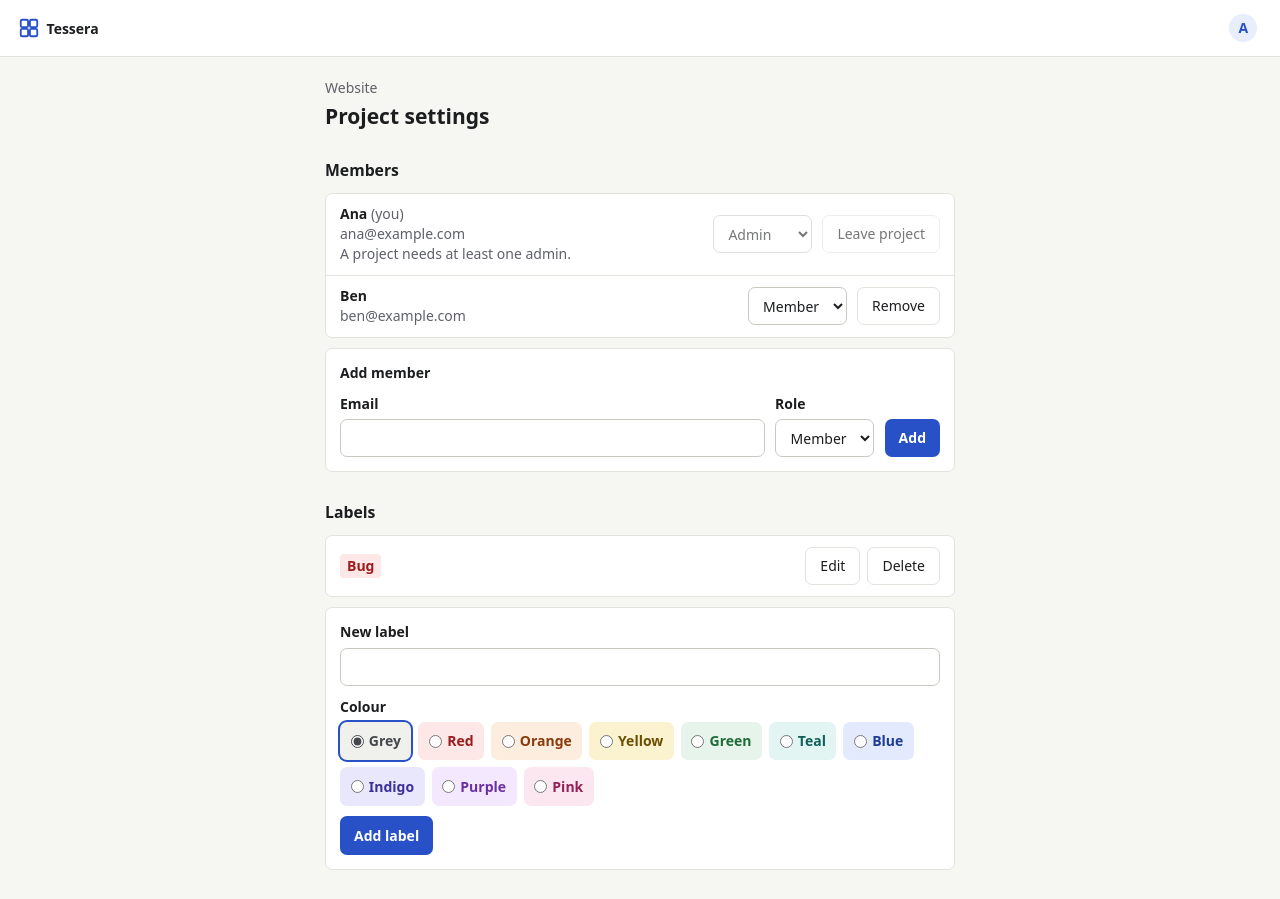
Test: Project settings: members › asks before an admin removes someone
The width and height of the screenshot is (1280, 899).
Click the button with aria-label "Remove Ben": [899, 306] box top-left (857, 287), bottom-right (940, 325)
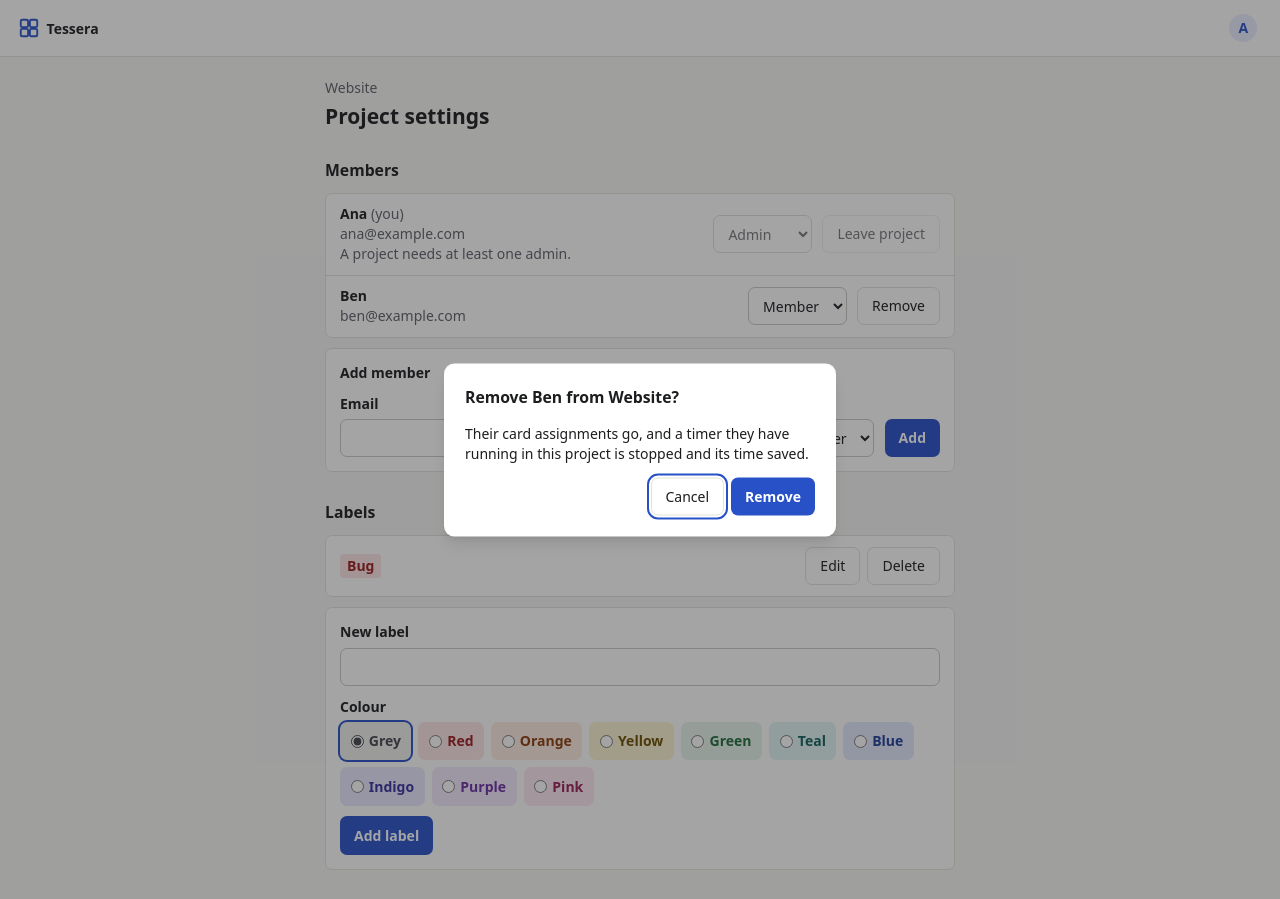
Result: the dialog "Remove Ben from Website?" shows "Their card assignments go" at top-left (465, 423), bottom-right (809, 462)
Click the button "Remove": [773, 496] box top-left (731, 477), bottom-right (815, 516)
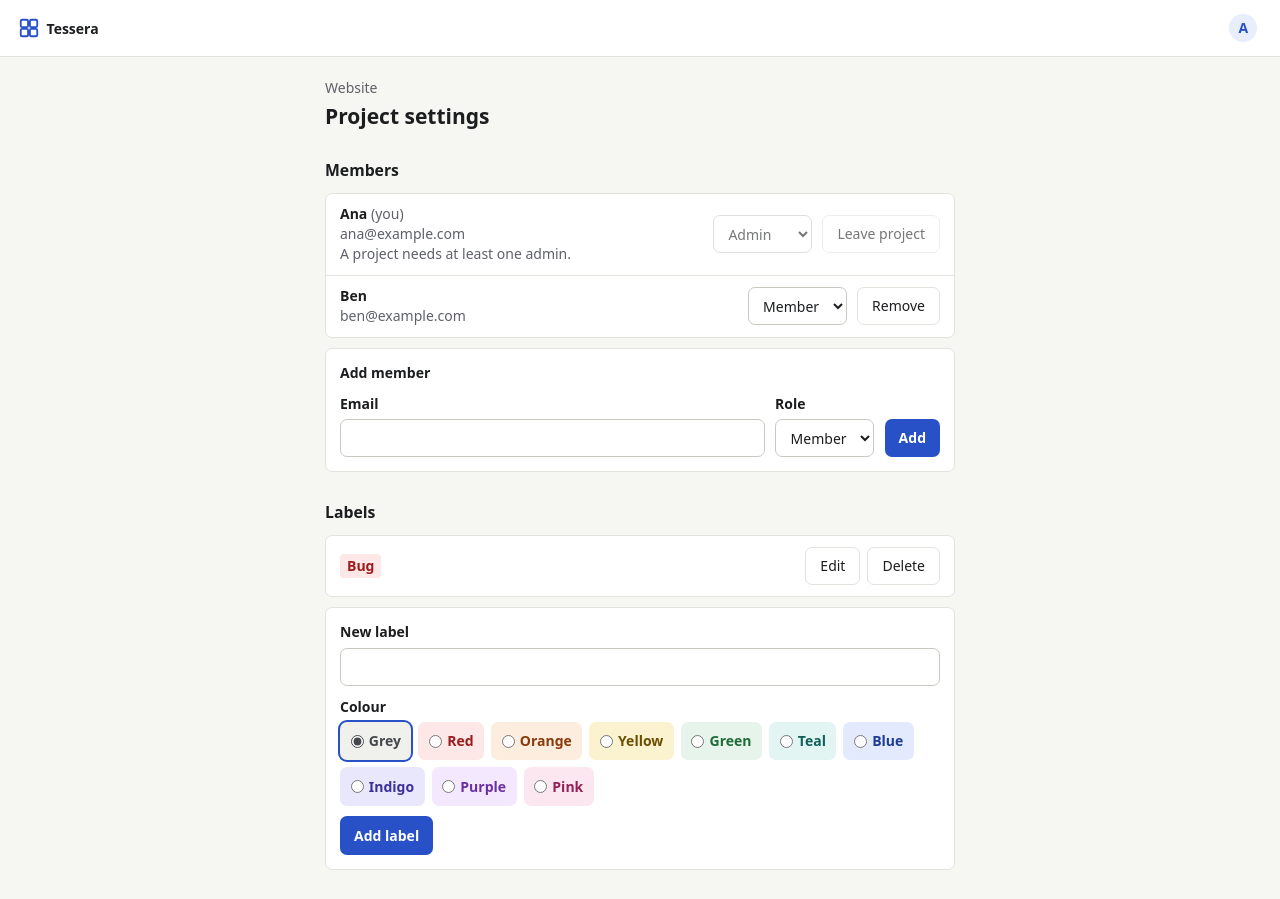
Result: the heading "Remove Ben from Website?" is gone
